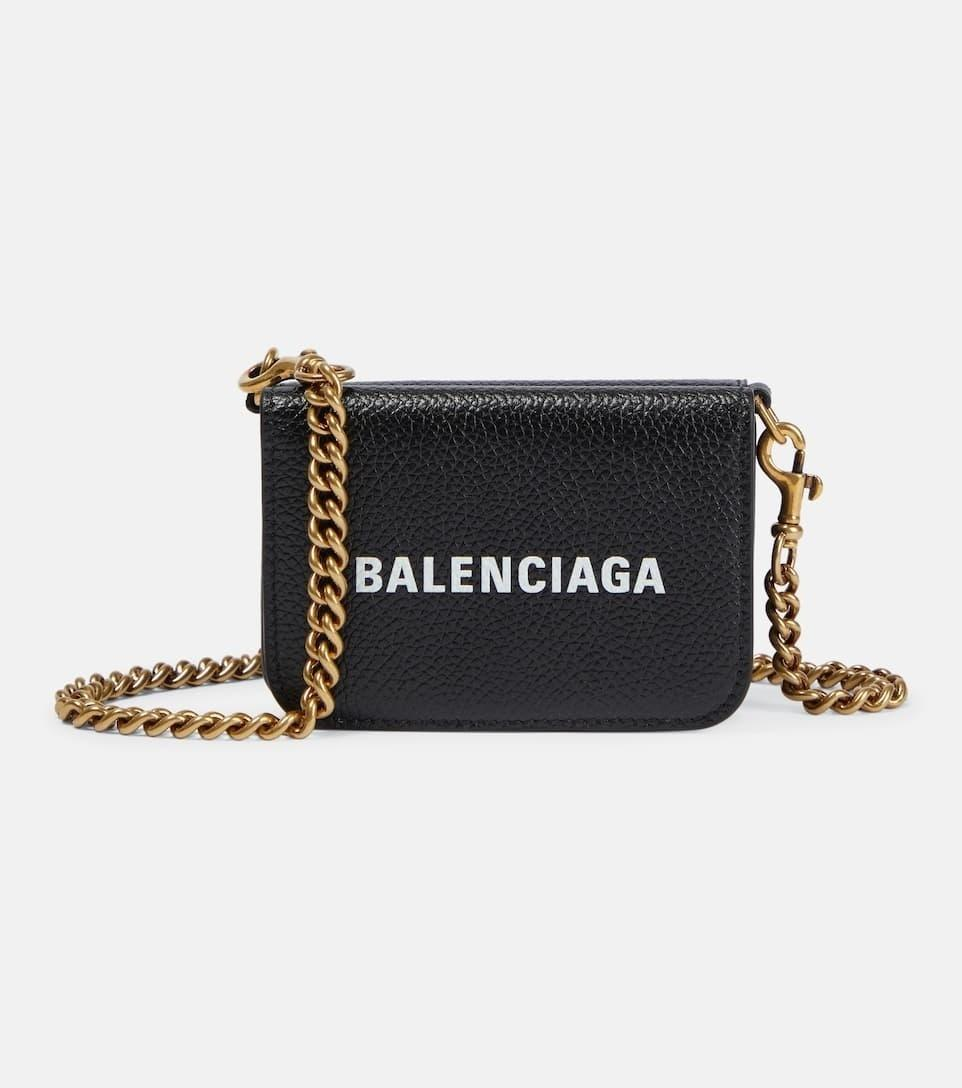BALENCIAGA: (357, 556, 666, 595)
